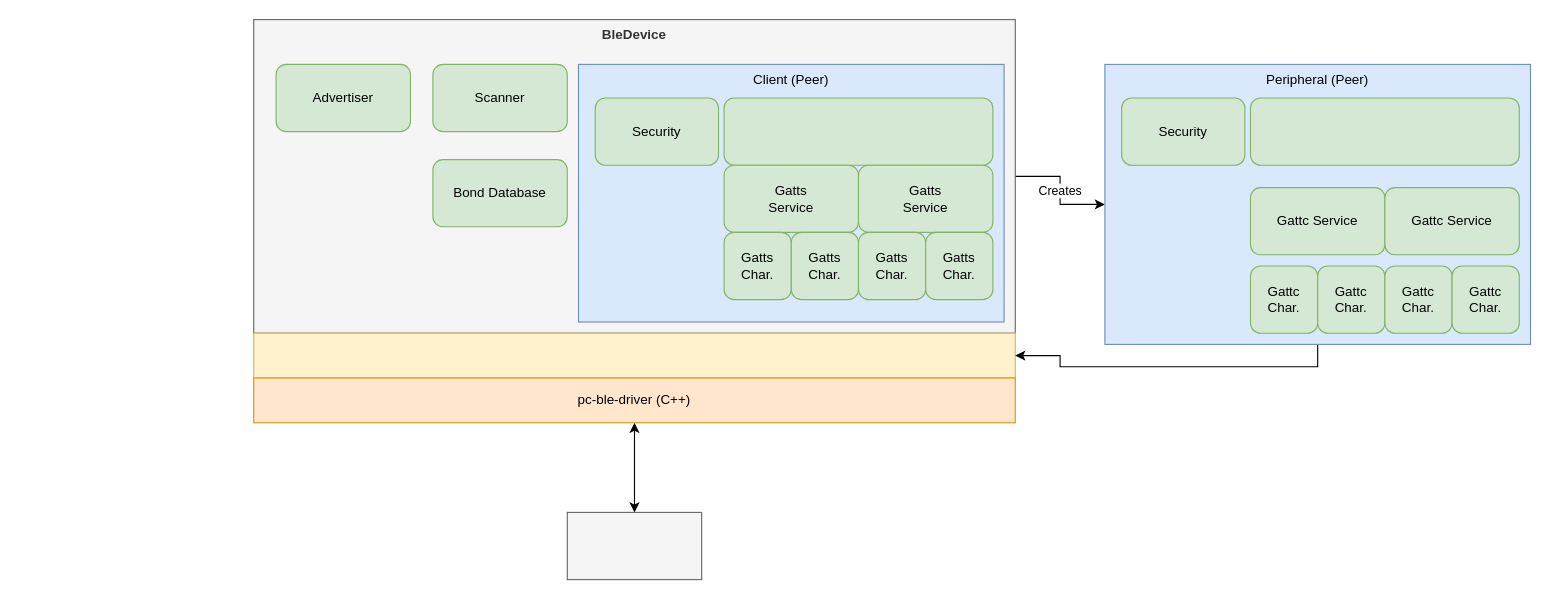
Some shapes in this 1550 by 599 pixel diagram are drawn without their labels. The centre of each missing label's shape, as x and y in pixels:
"Gattc Database" goes at (x=1384, y=131).
"Gatts Database" goes at (x=858, y=131).
"Nrf Driver" goes at (x=634, y=355).
"nRF Hardware" goes at (x=634, y=545).
